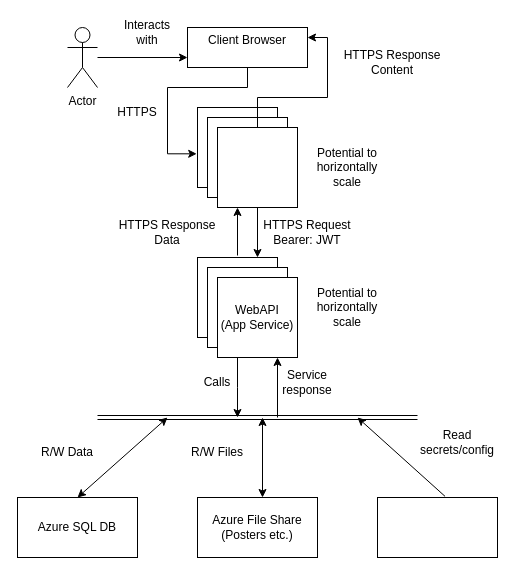
The diagram is 515 pixels wide and 575 high, and some of its shapes have lost their labels. The centre of each missing label's shape, as x and y in pixels:
"Azure Key Vault (Secrets/Config)" goes at point 437,527.
"WebUI (App Service)" goes at point 257,167.
